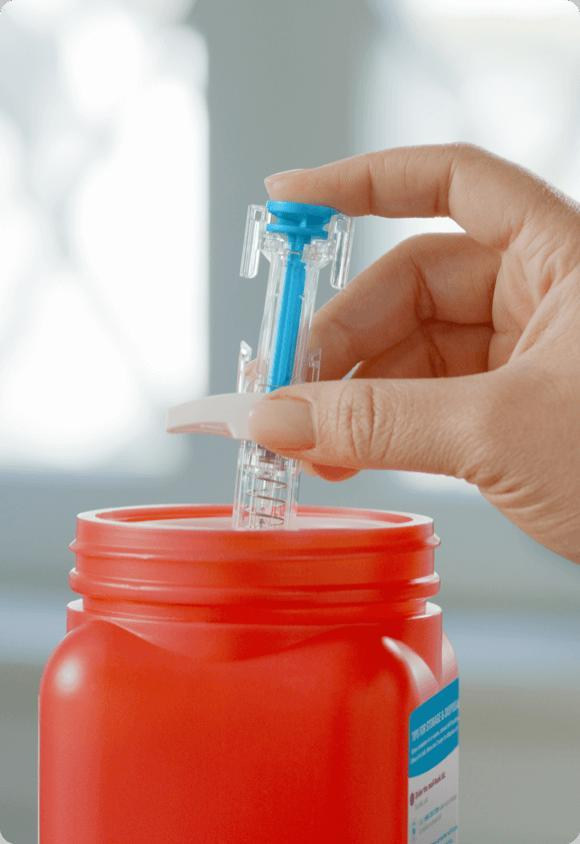Syringe: (167, 201, 352, 529), (238, 201, 351, 392)
